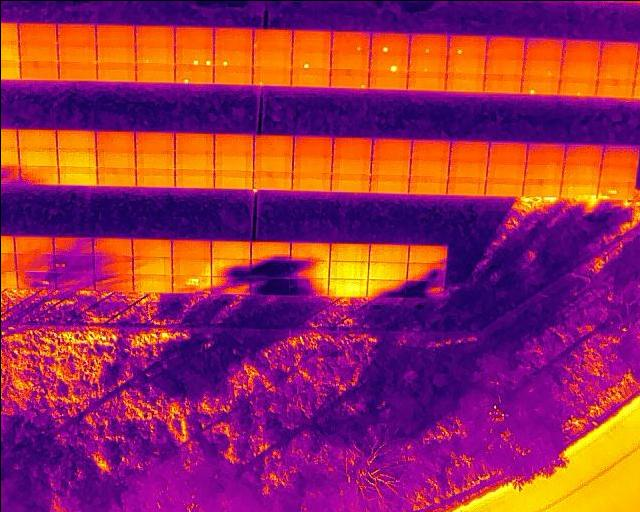Cell: (331, 30, 371, 54), (252, 28, 291, 51), (447, 34, 486, 55), (409, 33, 448, 54), (370, 33, 409, 54), (329, 69, 368, 88), (521, 76, 559, 94), (174, 65, 212, 83), (368, 54, 408, 71), (291, 52, 330, 69), (252, 68, 291, 85), (408, 54, 446, 71), (558, 77, 595, 94), (213, 50, 252, 66)
Cell-Multi: (597, 180, 634, 198), (174, 49, 213, 66)
No-Anomaly: (291, 29, 330, 51), (213, 28, 252, 50), (56, 22, 95, 44), (598, 41, 638, 62), (449, 139, 489, 160), (486, 36, 524, 58), (174, 27, 212, 49), (487, 141, 525, 163), (174, 132, 214, 152), (134, 131, 174, 151), (561, 40, 599, 61), (135, 26, 174, 46), (95, 26, 134, 46), (17, 23, 56, 43), (525, 143, 564, 163), (293, 135, 332, 155), (213, 133, 252, 153), (135, 63, 175, 82), (330, 172, 370, 191), (174, 168, 214, 187), (564, 144, 602, 164), (411, 140, 449, 160), (252, 134, 292, 153), (407, 244, 446, 263), (57, 61, 96, 80), (19, 60, 58, 79), (291, 171, 330, 190), (135, 167, 174, 186), (601, 145, 640, 164), (332, 136, 371, 155), (445, 72, 484, 91), (525, 40, 562, 60), (288, 242, 329, 260), (371, 139, 412, 157), (485, 176, 523, 195), (410, 156, 448, 175), (484, 74, 522, 93), (407, 72, 445, 91), (328, 260, 368, 278), (368, 243, 408, 261), (210, 240, 250, 258), (92, 237, 132, 255), (96, 167, 136, 185), (94, 131, 134, 149), (368, 71, 408, 89), (368, 261, 407, 279), (171, 257, 210, 275), (96, 63, 135, 81), (18, 42, 57, 60), (171, 240, 210, 258), (132, 239, 171, 257), (408, 175, 447, 193), (252, 170, 291, 188), (214, 170, 253, 188), (57, 165, 96, 183), (95, 149, 134, 167), (56, 148, 95, 166), (55, 130, 94, 148), (17, 130, 56, 148), (595, 79, 634, 97), (213, 66, 252, 84), (328, 243, 369, 260), (523, 178, 561, 196), (447, 176, 485, 194), (370, 175, 408, 193), (328, 278, 368, 295), (134, 46, 174, 63), (213, 152, 253, 169), (173, 152, 213, 169), (132, 274, 171, 291), (521, 59, 560, 76), (252, 52, 291, 69), (57, 44, 96, 61), (370, 157, 409, 174), (331, 155, 370, 172), (252, 153, 291, 170), (18, 148, 57, 165), (132, 257, 170, 274), (446, 54, 484, 71), (291, 69, 329, 86), (13, 236, 53, 252), (598, 164, 638, 180), (134, 151, 174, 167), (597, 62, 636, 78), (96, 46, 135, 62), (448, 160, 487, 176), (292, 155, 331, 171), (560, 61, 598, 77), (484, 58, 522, 74), (330, 54, 369, 69), (563, 164, 599, 180), (524, 163, 562, 178), (487, 163, 524, 177)
Shadowing: (53, 253, 93, 273), (18, 165, 59, 184), (14, 252, 54, 271), (404, 281, 444, 299), (289, 260, 329, 278), (210, 258, 250, 276), (93, 256, 133, 274), (365, 278, 404, 296), (250, 241, 289, 259), (250, 259, 288, 277), (288, 277, 328, 294), (14, 272, 54, 289), (52, 237, 92, 254), (249, 277, 288, 294), (407, 263, 446, 280), (211, 276, 249, 293), (93, 274, 132, 290), (55, 273, 94, 289)
Unclassified: (171, 274, 210, 292), (561, 180, 597, 197)
